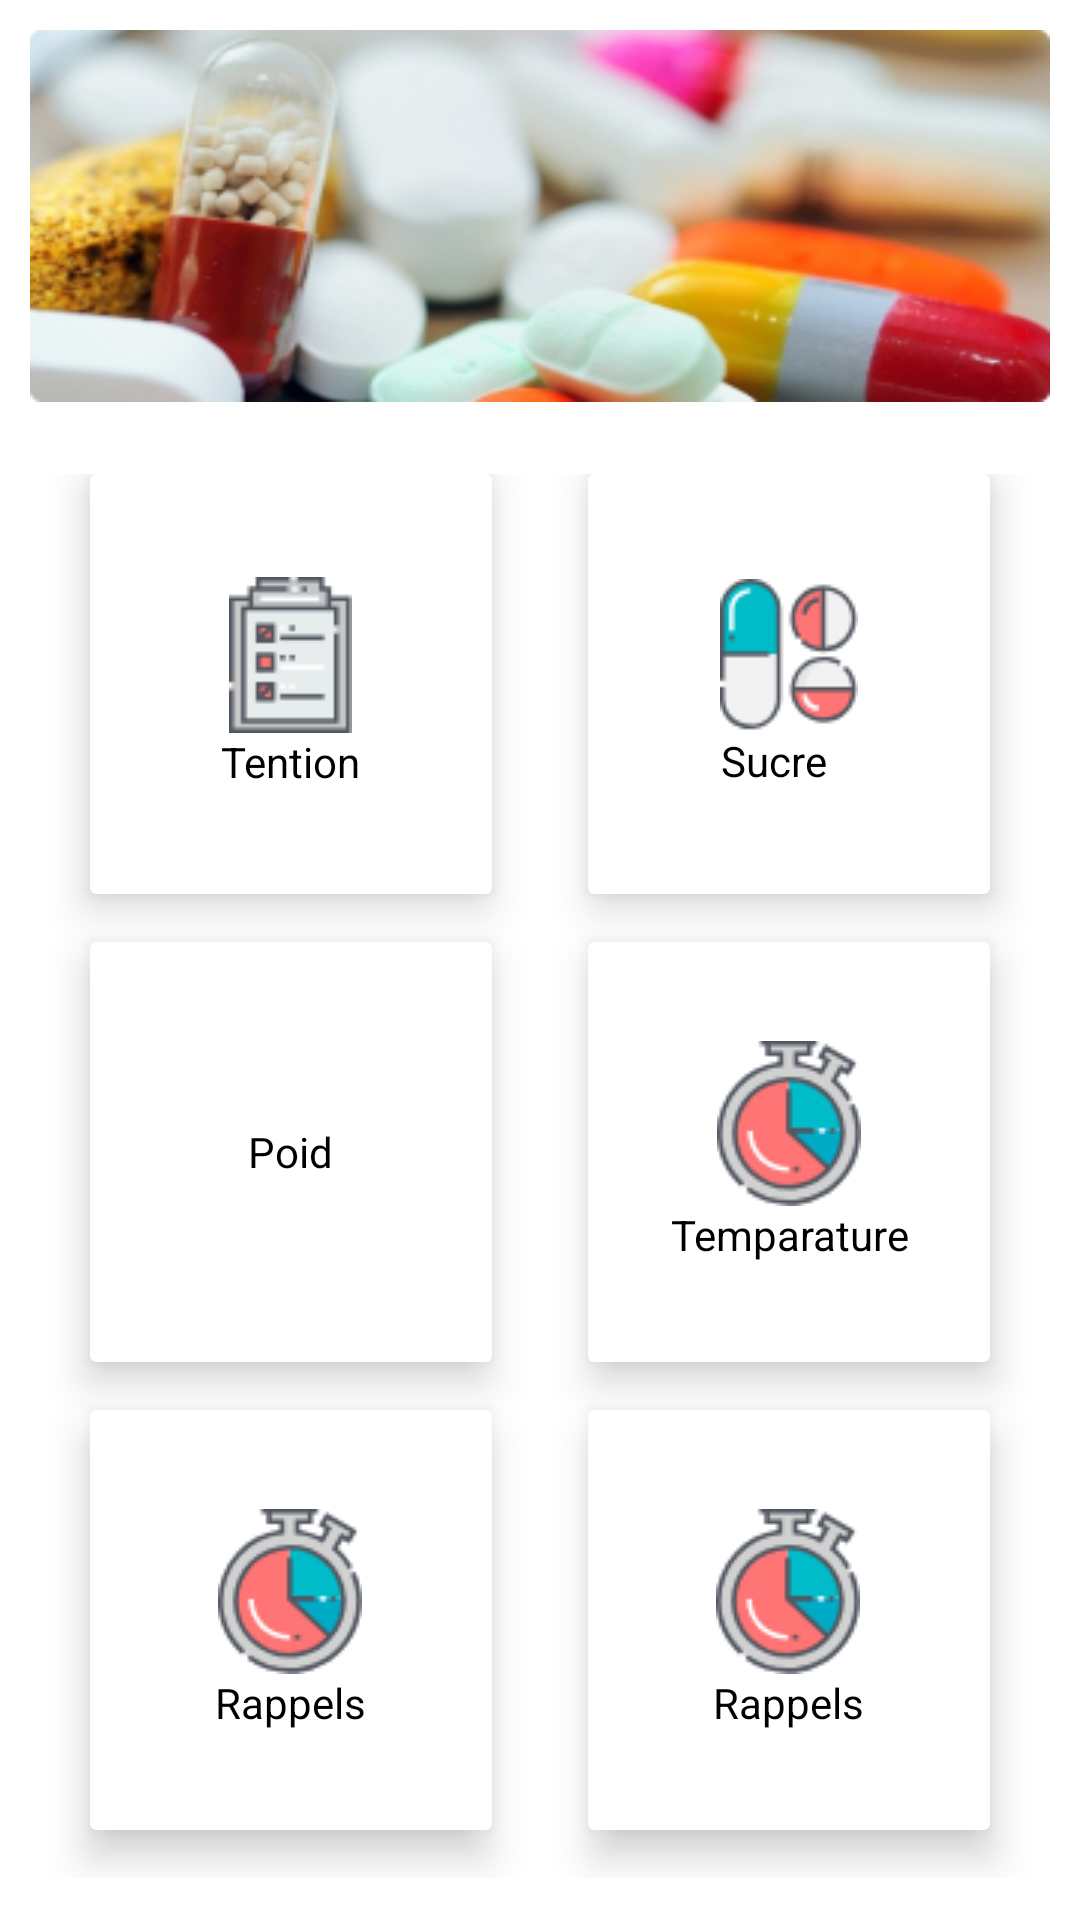

Icons on this 1080px x 1920px Android screen, each with its box as bbox=(x1, y1, x2, y2):
medicineaz: bbox=(720, 579, 858, 730)
presc: bbox=(229, 577, 352, 733)
stopclock: bbox=(717, 1041, 861, 1206), bbox=(218, 1509, 362, 1674), bbox=(716, 1509, 860, 1674)
